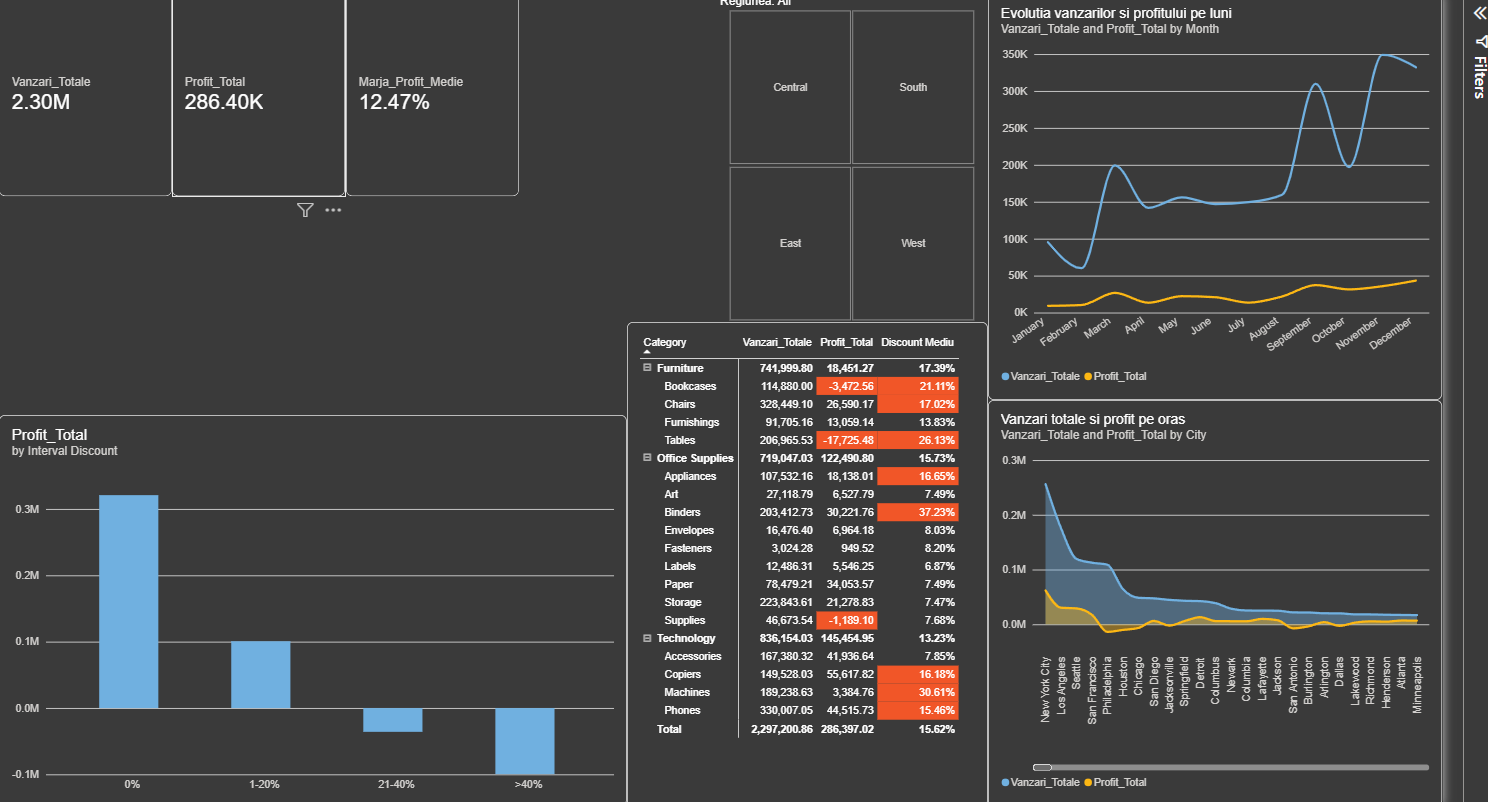

The dashboard page shown, as its layout file describes it:
{"tool":"powerbi","page":{"name":"Page 1","canvas":[1920,1080],"ordinal":0},"visuals":[{"type":"cardVisual","title":"Vanzari totale","fields":{"Data":["datashop fact_vanzari.Vanzari_Totale"]},"box":[0,0,230.5,269.9],"z":0},{"type":"cardVisual","title":"Profitul total","fields":{"Data":["datashop fact_vanzari.Profit_Total"]},"box":[230.1,0,230.5,269.9],"z":1000},{"type":"pivotTable","fields":{"Rows":["datashop dim_produse.Category","datashop dim_produse.Sub_Category"],"Values":["datashop fact_vanzari.Vanzari_Totale","datashop fact_vanzari.Profit_Total","datashop fact_vanzari.Discount Mediu"]},"box":[835.3,436.3,480.1,643.7],"z":2000},{"type":"slicer","fields":{"Values":["datashop dim_locatii.Region"]},"box":[951.2,0,364.7,436.2],"z":3000},{"type":"lineChart","title":"Evolutia vanzarilor si profitului pe luni","fields":{"Category":["datashop fact_vanzari.Order_Date.Variation.Date Hierarchy.Year","datashop fact_vanzari.Order_Date.Variation.Date Hierarchy.Quarter","datashop fact_vanzari.Order_Date.Variation.Date Hierarchy.Month","datashop fact_vanzari.Order_Date.Variation.Date Hierarchy.Day"],"Y":["datashop fact_vanzari.Vanzari_Totale","datashop fact_vanzari.Profit_Total"]},"box":[1316,0,604,539.8],"z":4000},{"type":"areaChart","title":"Vanzari totale, profit pe oras si discount mediu","fields":{"Category":["datashop dim_locatii.City"],"Y":["datashop fact_vanzari.Vanzari_Totale","datashop fact_vanzari.Profit_Total"],"Y2":["datashop fact_vanzari.Discount Mediu"]},"box":[1316,539.8,604,539.8],"z":5000},{"type":"cardVisual","title":"Marja profitului mediu","fields":{"Data":["datashop fact_vanzari.Marja_Profit_Medie"]},"box":[460.2,0,230.5,269.9],"z":5001},{"type":"clusteredColumnChart","fields":{"Category":["datashop fact_vanzari.Interval Discount"],"Y":["datashop fact_vanzari.Profit_Total"]},"box":[0,560,835.3,520],"z":5003}]}

Visuals, with their boxes in screenshot pixels (x1, y1, x2, y2):
"Vanzari totale" cardVisual: (0, 0, 160, 193)
"Profitul total" cardVisual: (159, 0, 334, 193)
pivotTable - datashop dim_produse.Category x datashop dim_produse.Sub_Category: (619, 320, 983, 801)
slicer - datashop dim_locatii.Region: (707, 0, 984, 320)
"Evolutia vanzarilor si profitului pe luni" lineChart: (984, 0, 1442, 398)
"Vanzari totale, profit pe oras si discount mediu" areaChart: (984, 398, 1442, 801)
"Marja profitului mediu" cardVisual: (334, 0, 509, 193)
clusteredColumnChart - datashop fact_vanzari.Interval Discount x datashop fact_vanzari.Profit_Total: (0, 414, 619, 801)
